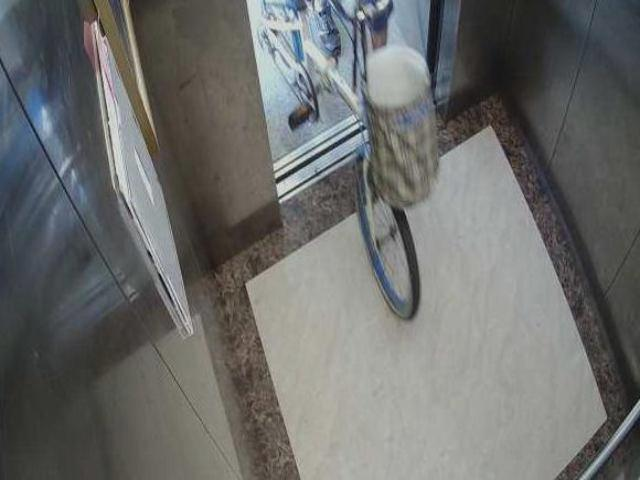bicycle: (262, 11, 443, 309)
